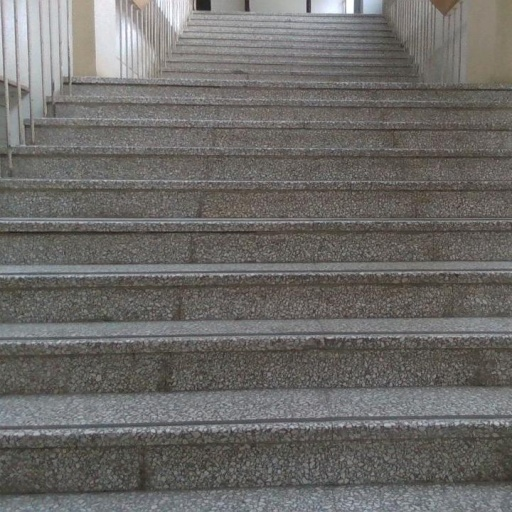Stairs: (0, 72, 512, 512)
